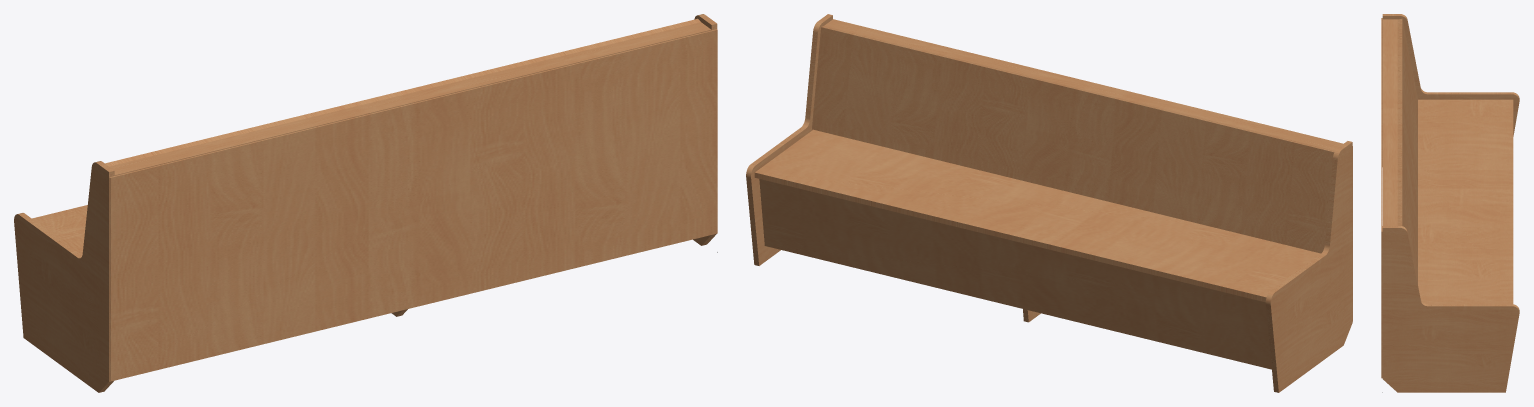
File: divan_malvina_2_derevo.glb
3 views of the same model, side by side, from view 1: azimuth 30°, elevation 25°; view 2: azimuth 150°, elevation 25°; view 3: azimuth 270°, elevation 25° (orthographic). The views are drawn at different scales.
Visible parts, largest first — view 1: Shape_IndexedFaceSet.001_NON, Shape_IndexedFaceSet.006, Shape_IndexedFaceSet.004, Shape_IndexedFaceSet.002, Shape_IndexedFaceSet.003; view 2: Shape_IndexedFaceSet.002, Shape_IndexedFaceSet, Shape_IndexedFaceSet.003, Shape_IndexedFaceSet.006, Shape_IndexedFaceSet.004, Shape_IndexedFaceSet.007, Shape_IndexedFaceSet.001_NON; view 3: Shape_IndexedFaceSet.003, Shape_IndexedFaceSet.007, Shape_IndexedFaceSet.002, Shape_IndexedFaceSet.004, Shape_IndexedFaceSet.006, Shape_IndexedFaceSet.001_NON.
Boxes of the visible parts, x1,y1,x2,y2 form: Shape_IndexedFaceSet.001_NON: (109, 29, 717, 381); Shape_IndexedFaceSet.006: (14, 161, 114, 392); Shape_IndexedFaceSet.004: (109, 22, 711, 175); Shape_IndexedFaceSet.002: (105, 18, 700, 166); Shape_IndexedFaceSet.003: (32, 205, 87, 254); Shape_IndexedFaceSet.002: (812, 26, 1334, 253); Shape_IndexedFaceSet: (759, 179, 1271, 369); Shape_IndexedFaceSet.003: (754, 129, 1320, 302); Shape_IndexedFaceSet.006: (1265, 141, 1352, 392); Shape_IndexedFaceSet.004: (824, 19, 1342, 150); Shape_IndexedFaceSet.007: (746, 14, 832, 265); Shape_IndexedFaceSet.001_NON: (833, 19, 1352, 321); Shape_IndexedFaceSet.003: (1418, 99, 1513, 304); Shape_IndexedFaceSet.007: (1382, 226, 1519, 392); Shape_IndexedFaceSet.002: (1397, 18, 1417, 283); Shape_IndexedFaceSet.004: (1383, 19, 1397, 225); Shape_IndexedFaceSet.006: (1382, 14, 1519, 166); Shape_IndexedFaceSet.001_NON: (1381, 18, 1382, 378).
Size of the model in its own units: 1701 by 611 by 464.
Materials: 10 (9 with a texture image).
